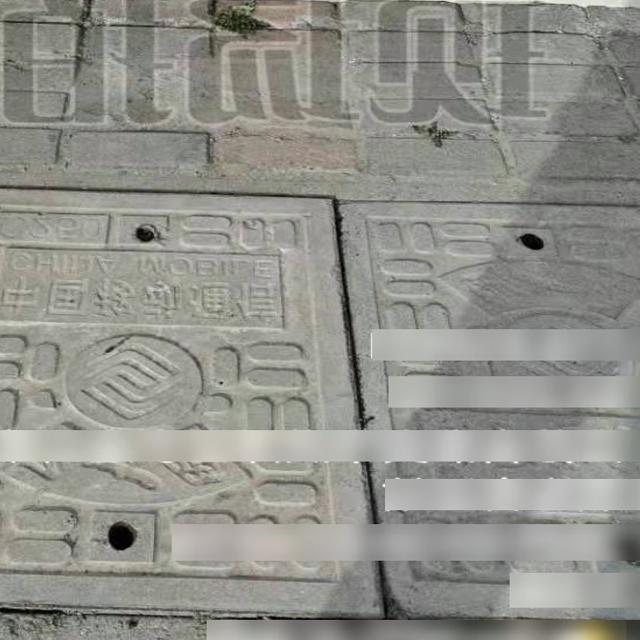good: (0, 171, 640, 640)
